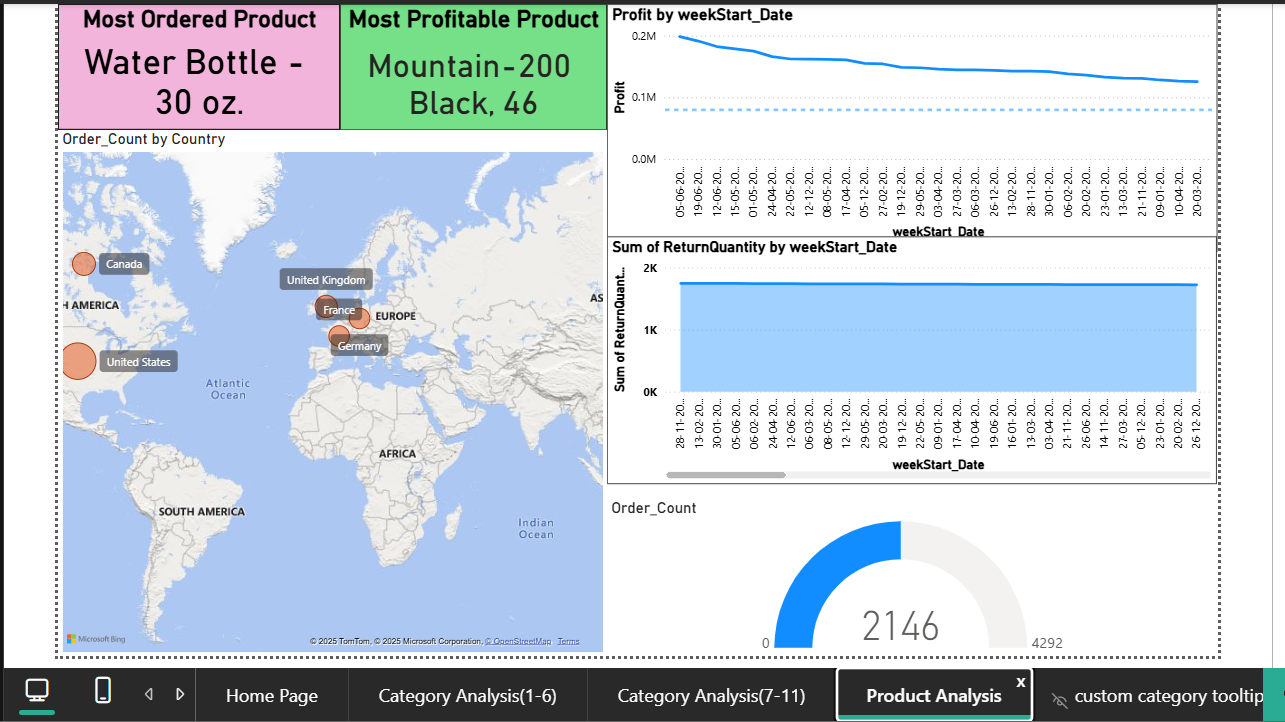

What the dashboard file says about the page in this screenshot:
{"tool":"powerbi","page":{"name":"Product Analysis","canvas":[1280,720],"ordinal":3},"visuals":[{"type":"card","title":"Most Ordered Product","fields":{"Values":["Min(Products.ProductName)"]},"box":[0,0,311.7,138.8],"z":0},{"type":"card","title":"Most Profitable Product","fields":{"Values":["Min(Products.ProductName)"]},"box":[311.4,0,294.9,139.1],"z":1000},{"type":"map","fields":{"Category":["Territories.Country"],"Size":["Sales.Order_Count"]},"box":[0,139.1,606.3,581.4],"z":2000},{"type":"lineChart","fields":{"Y":["Sales.Profit"],"Category":["Calendar.weekStart_Date"]},"box":[606.3,0,674.2,273.3],"z":3000},{"type":"areaChart","fields":{"Category":["Calendar.weekStart_Date"],"Y":["Sum(Returns.ReturnQuantity)"]},"box":[606.7,256.7,673.3,273.3],"z":4000},{"type":"gauge","fields":{"Y":["Sales.Order_Count"]},"box":[606,546,674,174],"z":5000}]}

Visuals, with their boxes on the page's 1280x720 design canvas (x1, y1, x2, y2). These are canvas units, not pixel positions in the 1285x722 screenshot, which may show the page scaled, cropped or inside an application window:
"Most Ordered Product" card: crop(0, 0, 312, 139)
"Most Profitable Product" card: crop(311, 0, 606, 139)
map - Territories.Country x Sales.Order_Count: crop(0, 139, 606, 720)
lineChart - Sales.Profit x Calendar.weekStart_Date: crop(606, 0, 1280, 273)
areaChart - Calendar.weekStart_Date x Sum(Returns.ReturnQuantity): crop(607, 257, 1280, 530)
gauge - Sales.Order_Count: crop(606, 546, 1280, 720)
